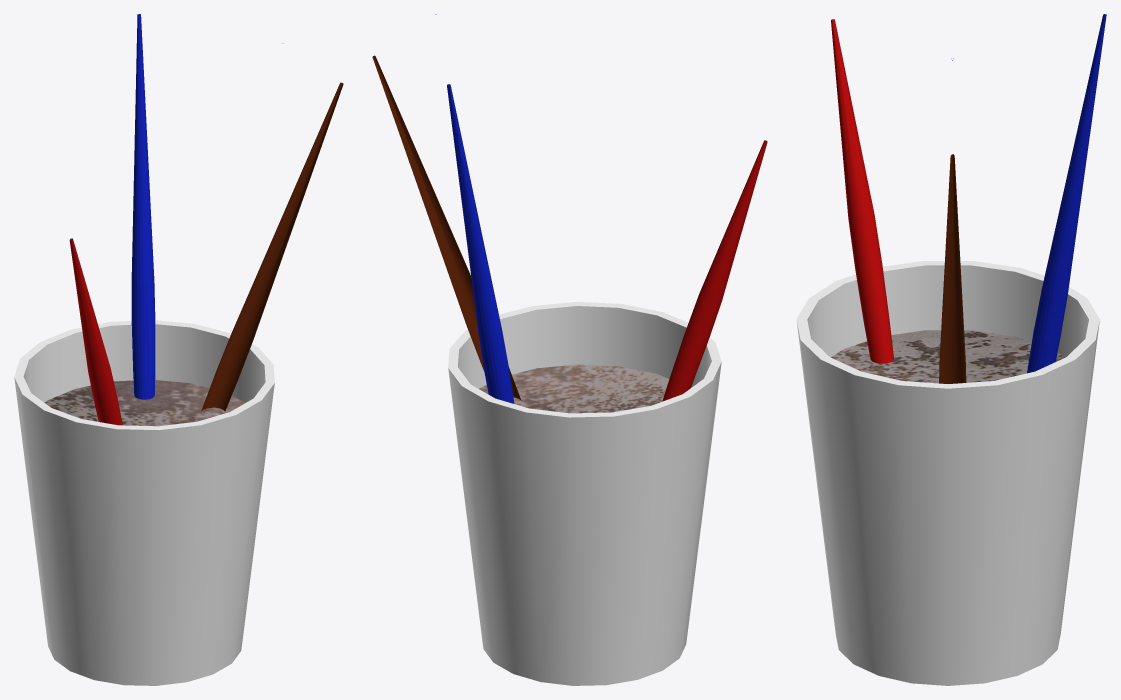
File: Brushes.FBX
The picture shows the model from 3 angles, left to right: view 1: azimuth 30°, elevation 25°; view 2: azimuth 150°, elevation 25°; view 3: azimuth 270°, elevation 25°; orthographic projection. The views are drawn at different scales.
Parts seen in each view (by area): view 1: Brushes; view 2: Brushes; view 3: Brushes.
Part boxes in pixels (x1,y1,x2,y2): Brushes: (14, 14, 343, 685); Brushes: (372, 14, 767, 685); Brushes: (796, 14, 1106, 685).
Size of the model in its own units: 15.01 by 25 by 10.67.
1 material, 1 textured.
